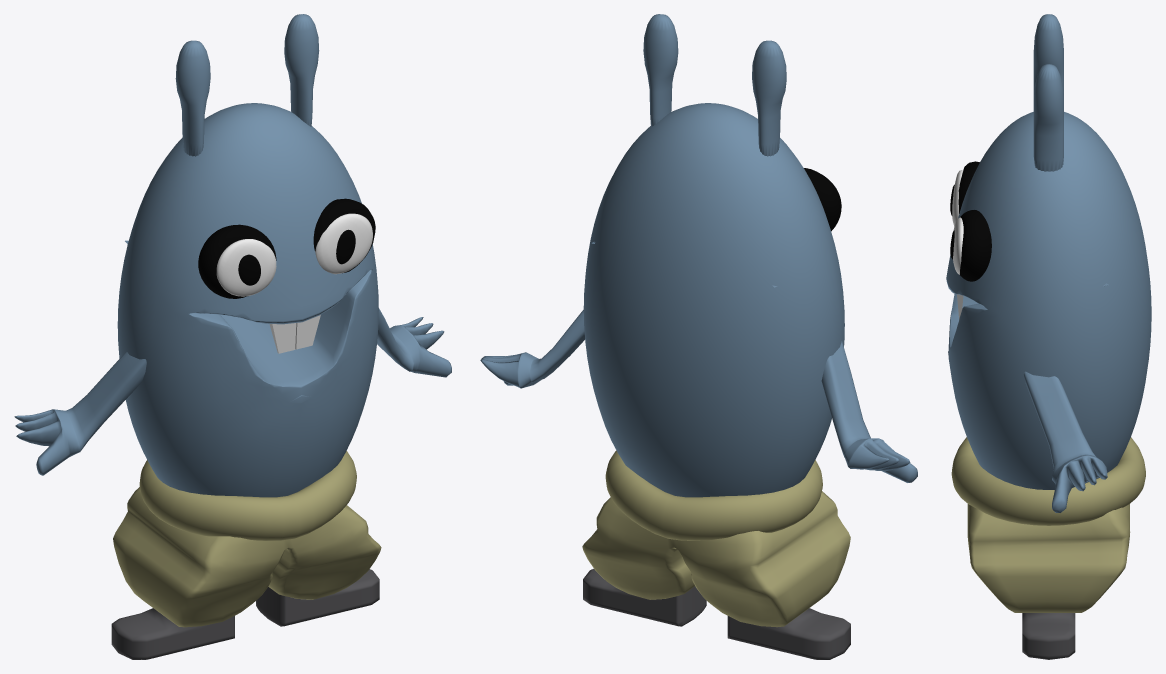
File: alien_fbx.fbx
3 renders of one model, left to right at view 1: azimuth 30°, elevation 25°; view 2: azimuth 150°, elevation 25°; view 3: azimuth 270°, elevation 25°, orthographic. The views are drawn at different scales.
Parts seen in each view (by area): view 1: pSphere1, pCube4, pCube3, pCube2, pCylinder3, polySurface2, pSphere2, pCube5; view 2: pSphere1, pCube4, pCube3, pCube2, pCylinder3, pSphere2; view 3: pSphere1, pCube4, pCube3, pCylinder3, pCube2, pSphere2, polySurface2.
Part boxes in pixels (x1=…): pSphere1: x1=117, y1=103, x2=378, y2=497; pCube4: x1=113, y1=451, x2=381, y2=627; pCube3: x1=14, y1=308, x2=451, y2=475; pCube2: x1=111, y1=569, x2=379, y2=659; pCylinder3: x1=175, y1=14, x2=319, y2=156; polySurface2: x1=216, y1=213, x2=372, y2=296; pSphere2: x1=198, y1=198, x2=375, y2=298; pCube5: x1=269, y1=315, x2=320, y2=353; pSphere1: x1=583, y1=103, x2=844, y2=497; pCube4: x1=582, y1=450, x2=850, y2=627; pCube3: x1=480, y1=310, x2=917, y2=482; pCube2: x1=583, y1=568, x2=850, y2=659; pCylinder3: x1=643, y1=14, x2=786, y2=156; pSphere2: x1=804, y1=168, x2=841, y2=231; pSphere1: x1=946, y1=112, x2=1151, y2=489; pCube4: x1=951, y1=437, x2=1145, y2=612; pCube3: x1=1024, y1=371, x2=1107, y2=512; pCylinder3: x1=1033, y1=14, x2=1063, y2=171; pCube2: x1=1022, y1=613, x2=1075, y2=659; pSphere2: x1=958, y1=161, x2=991, y2=281; polySurface2: x1=952, y1=170, x2=963, y2=274.
Bounding box in the file's own units: 88.03 × 117 × 38.63.
